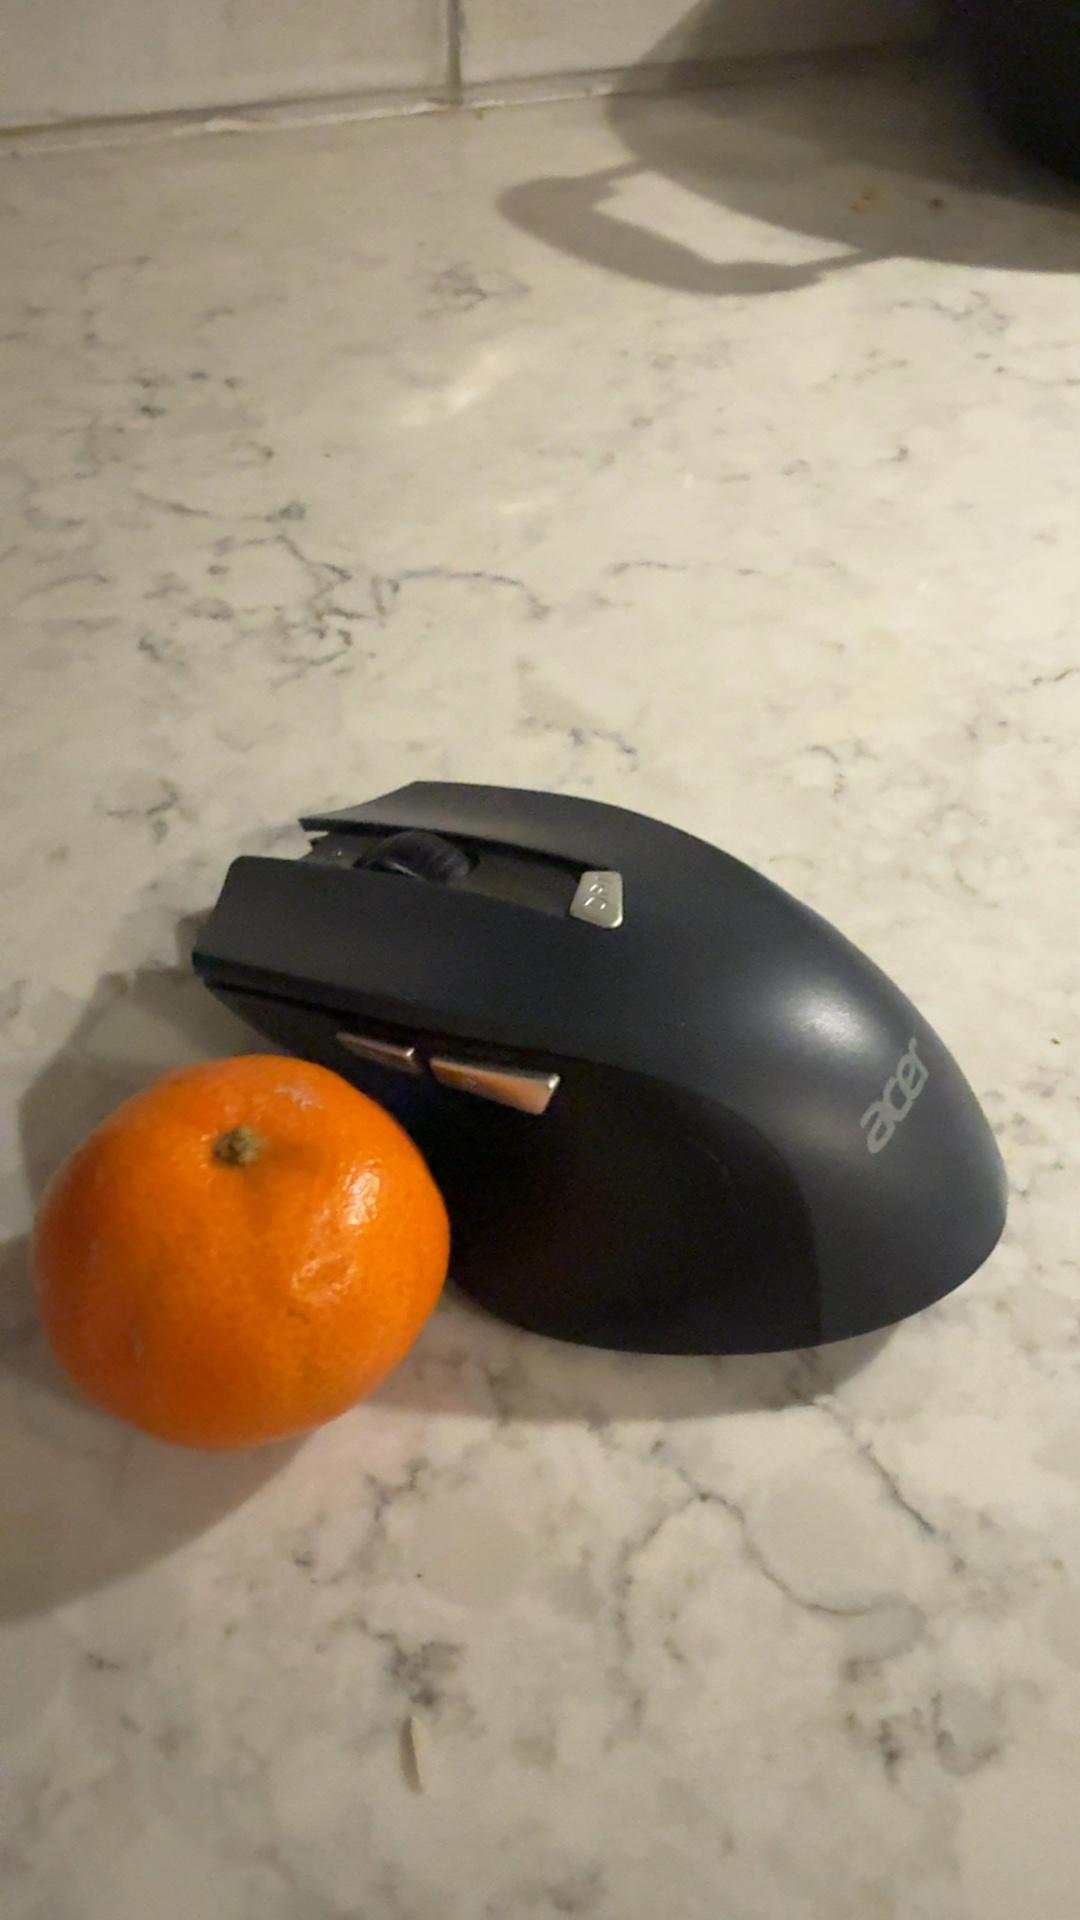Mouse: (112, 757, 1027, 1102), (455, 887, 1035, 1370)
